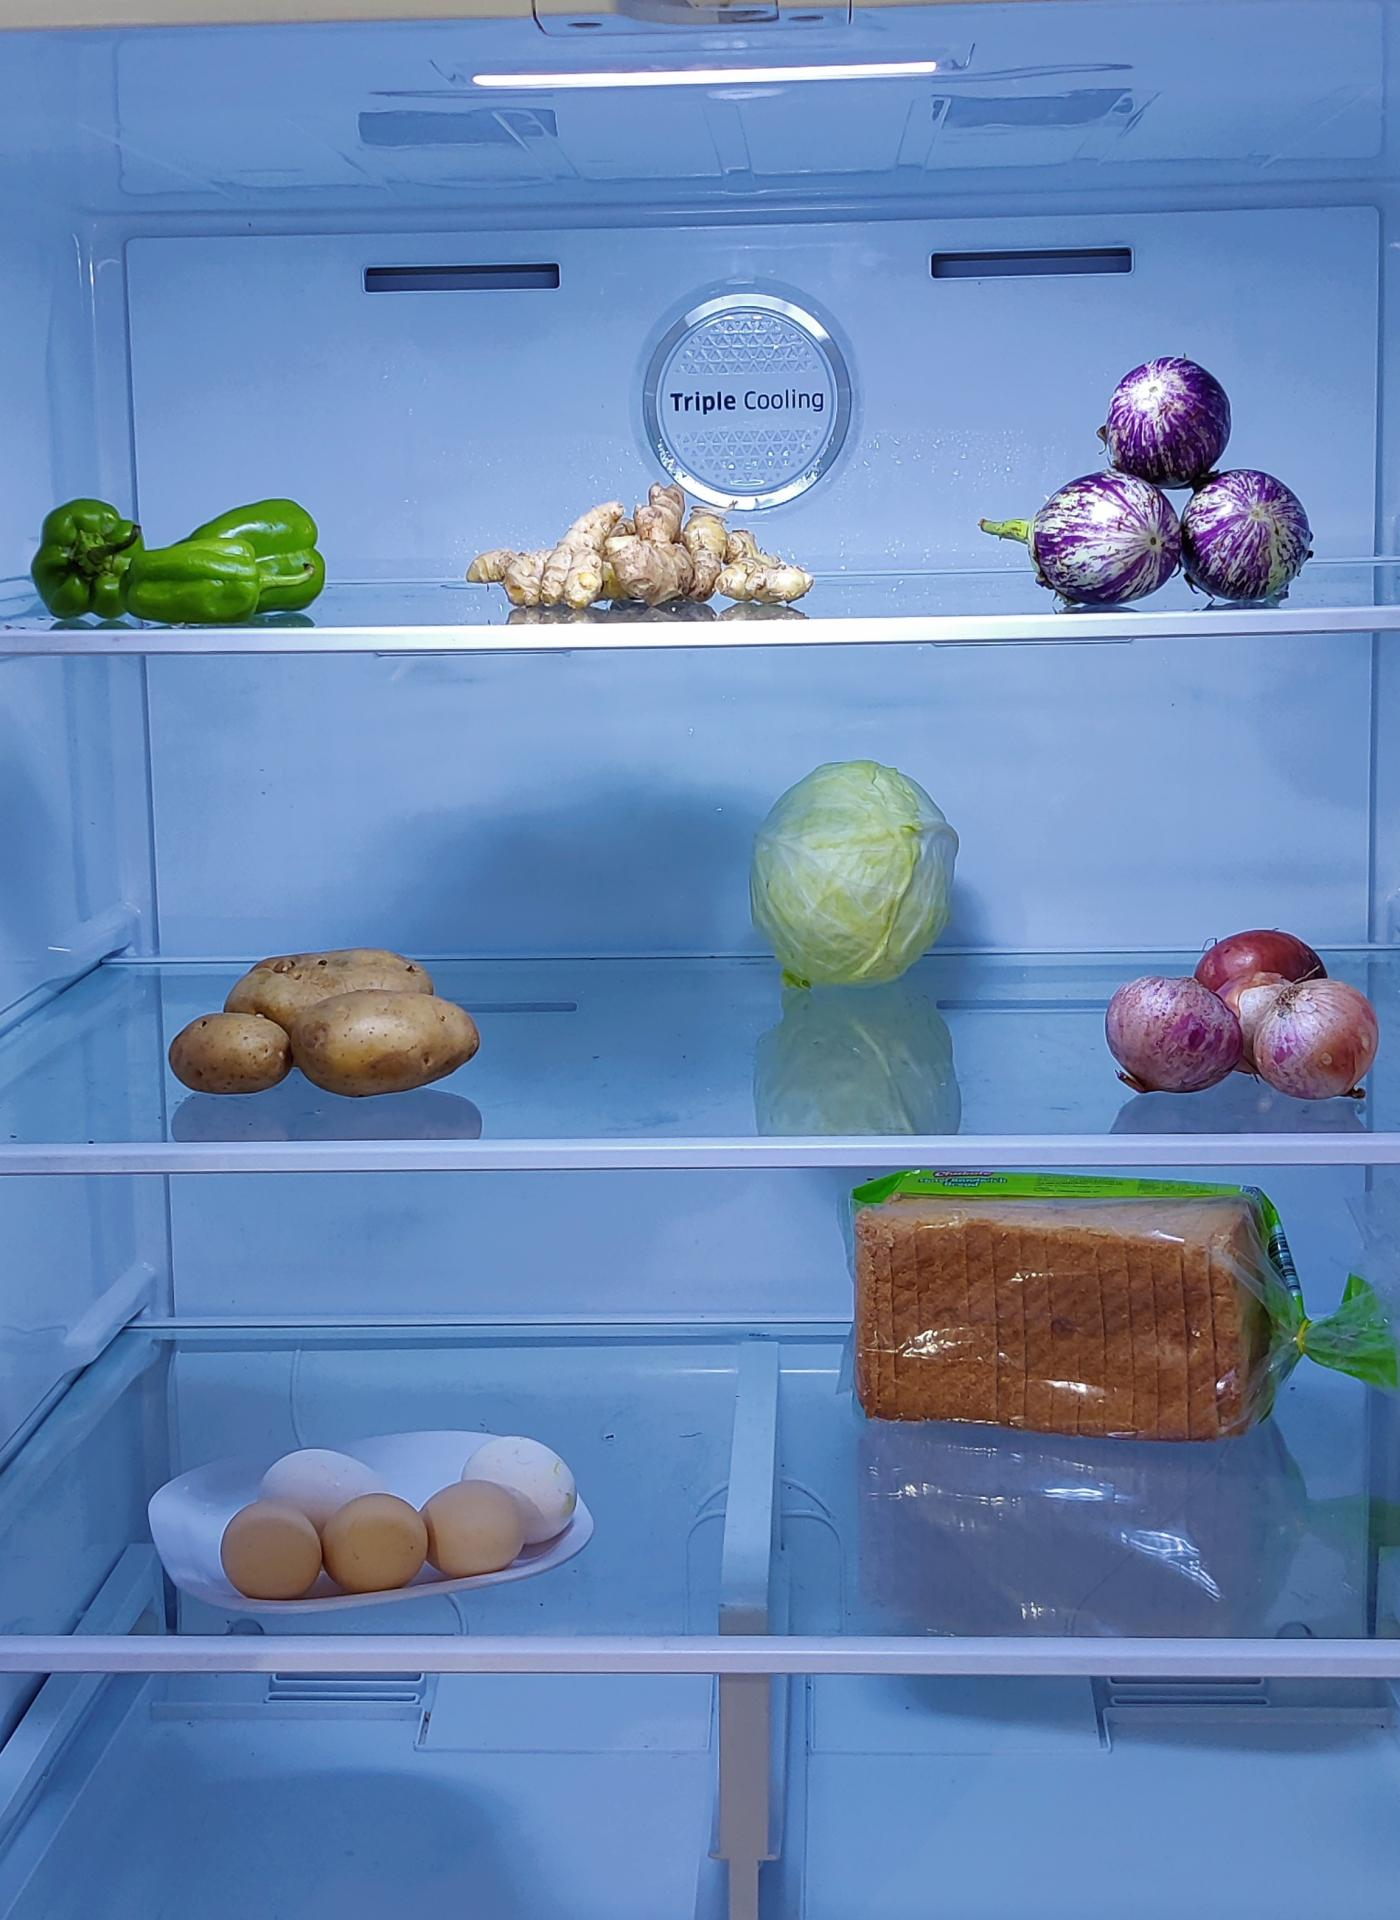bread: (844, 1170, 1297, 1443)
brinjal: (1042, 346, 1300, 593)
cabbage: (745, 762, 951, 996)
capsicum: (22, 490, 329, 634)
egg: (219, 1424, 581, 1589)
ginger: (470, 480, 820, 623)
onion: (1129, 941, 1370, 1103)
potato: (167, 944, 486, 1105)
